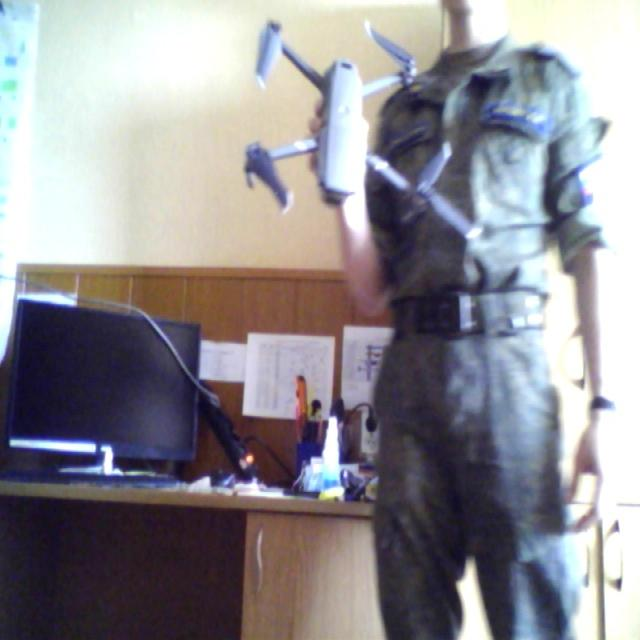drone: (240, 0, 463, 236)
